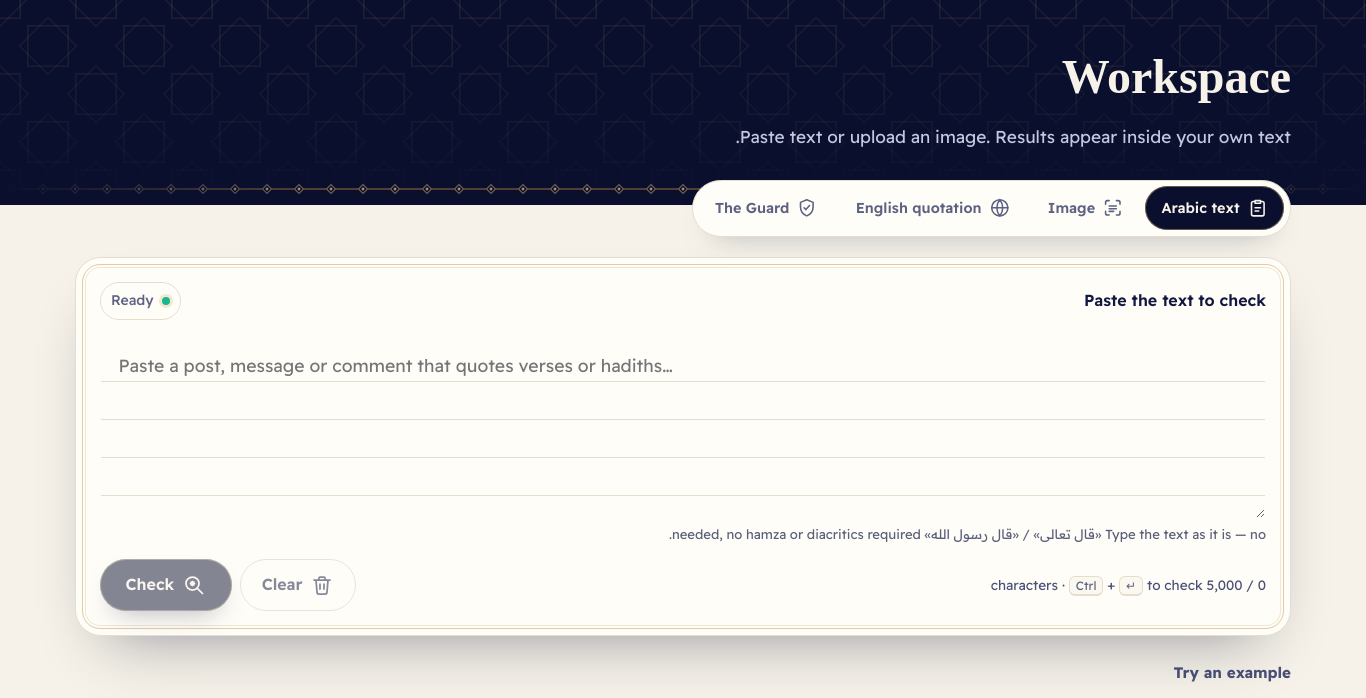
Test: Check page › renders the API error envelope in the UI language
Check: the text "Ready" is shown, box x1=111 y1=289 x2=154 y2=313
In the text box labelled "Paste the text to check": (683, 424) x1=100 y1=329 x2=1266 y2=519, type "x"
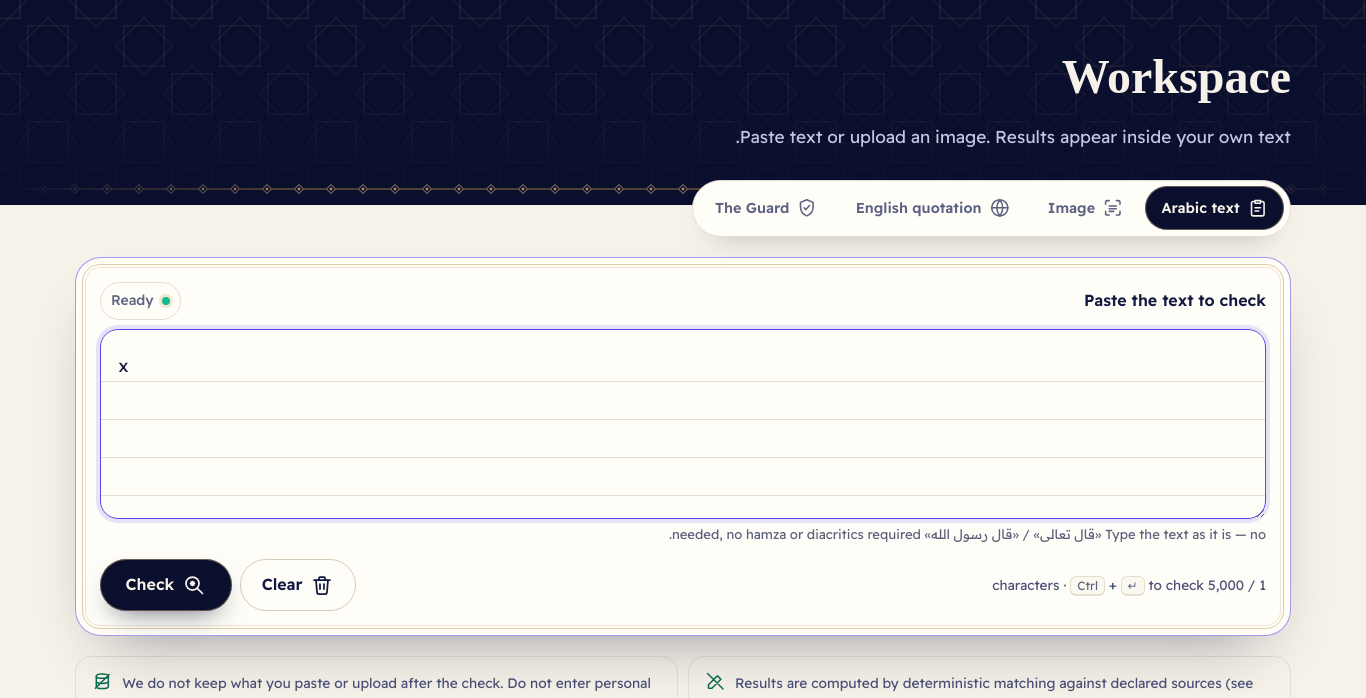
Click the button "Check": (166, 585) x1=100 y1=559 x2=232 y2=611
(page scrolled)
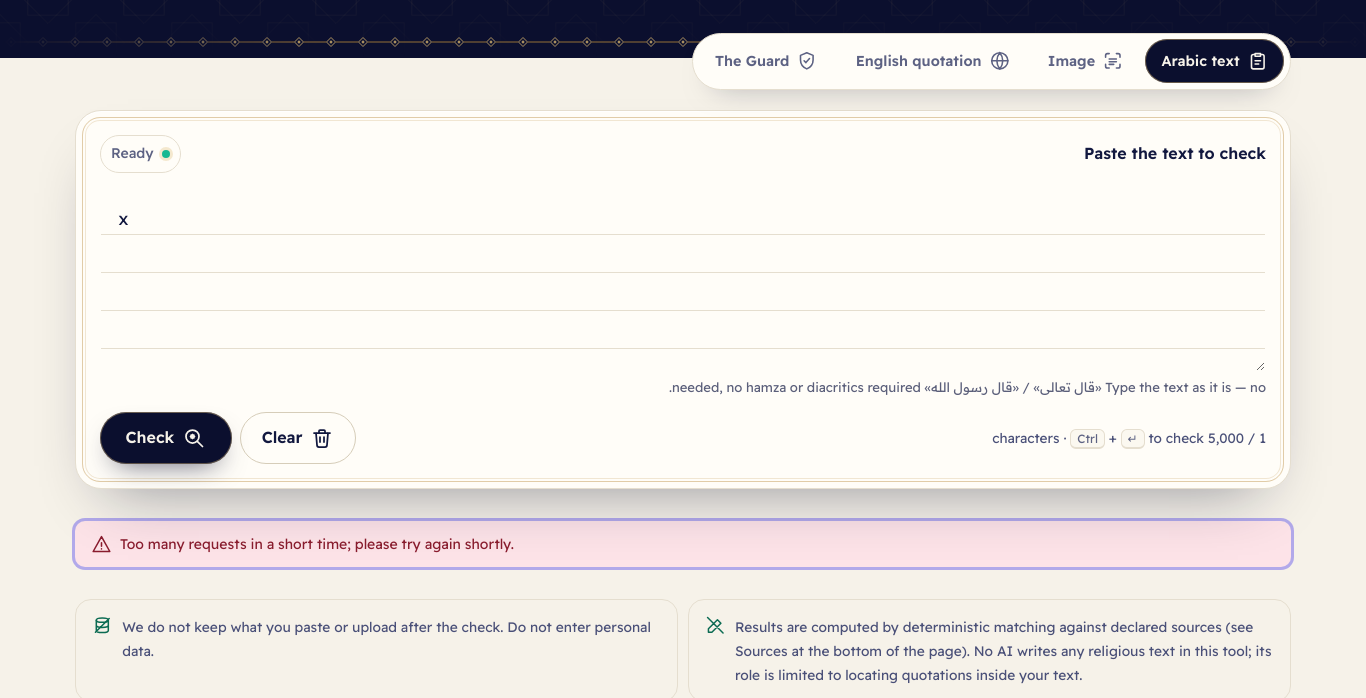
Check: the message reads "Too many requests in a short time; please try again shortly.", box x1=120 y1=535 x2=514 y2=553
